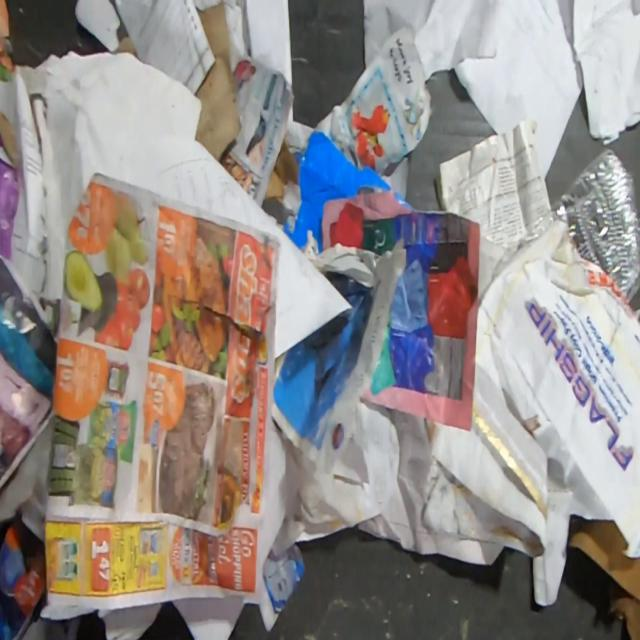cardboard: (565, 242, 640, 639), (282, 131, 393, 255), (0, 112, 24, 264), (263, 140, 299, 201)
rigid_plastic: (476, 146, 639, 323)
